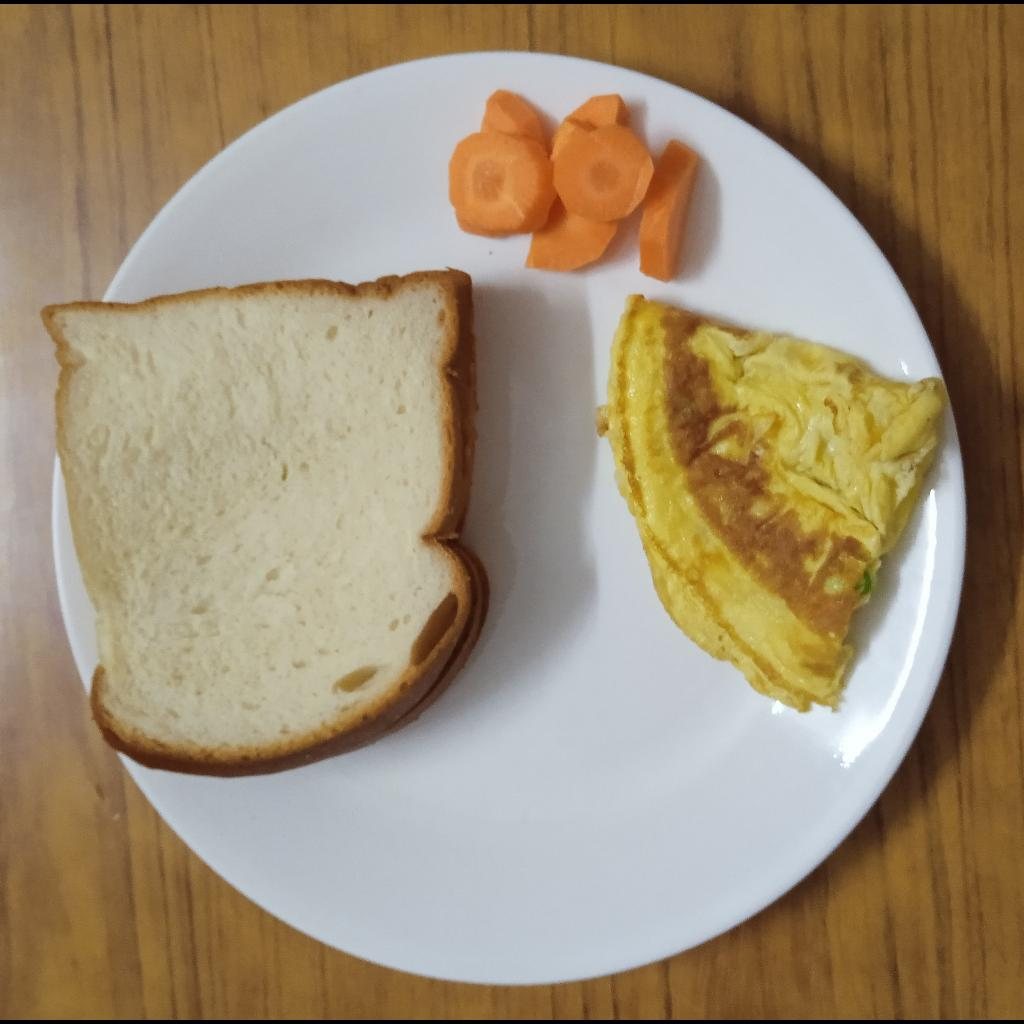bread: (41, 269, 492, 780)
carrot: (446, 86, 704, 283)
chicken: (596, 294, 945, 714)
